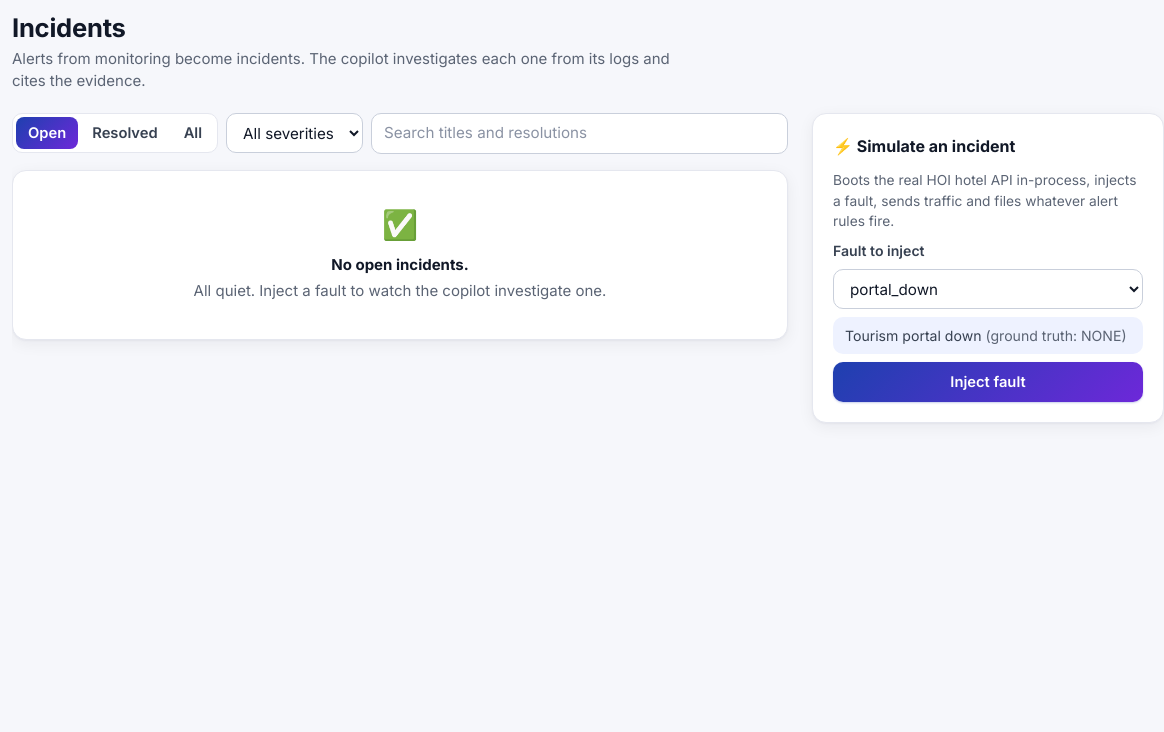
Test: Inbox › says plainly when a fault pages nobody
The image size is (1164, 732).
Expected: the text "(ground truth: NONE)" is shown, [986, 327, 1127, 344]
Click the button "Inject fault" at (988, 382), box [833, 362, 1143, 402]
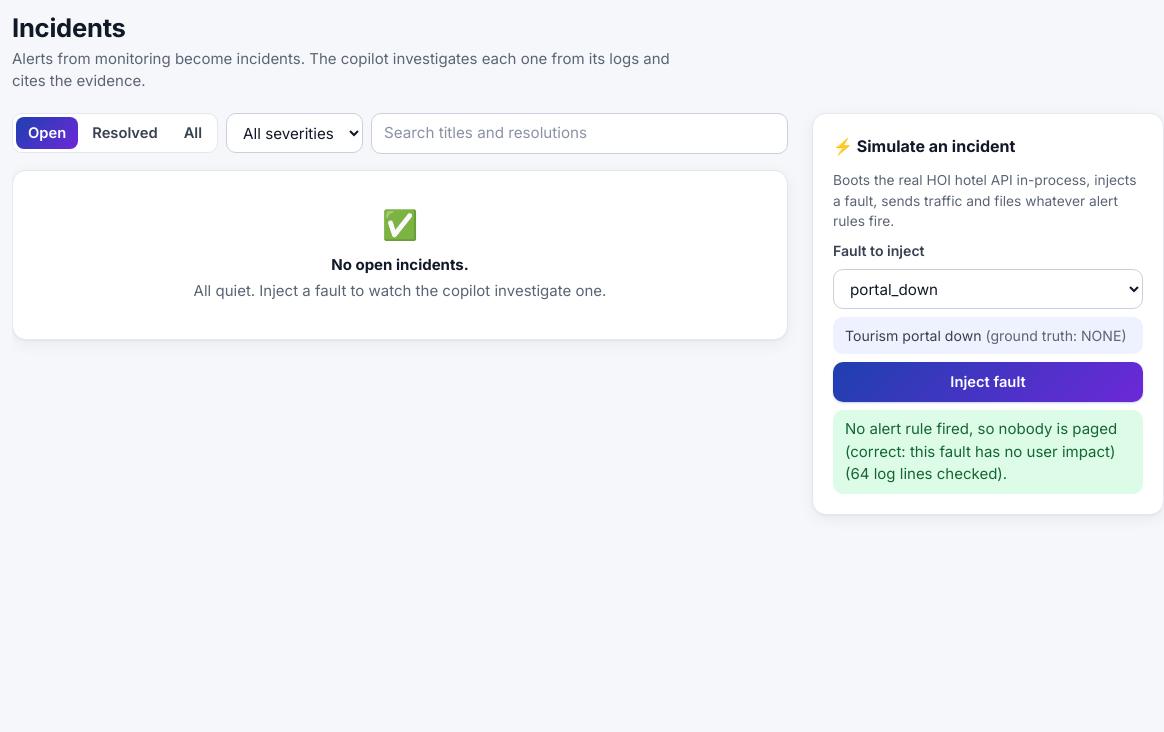
Expected: the text "nobody is paged" is shown, [845, 419, 1117, 461]
